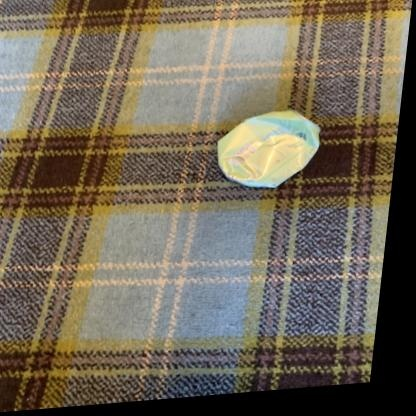trash: (218, 110, 319, 187)
